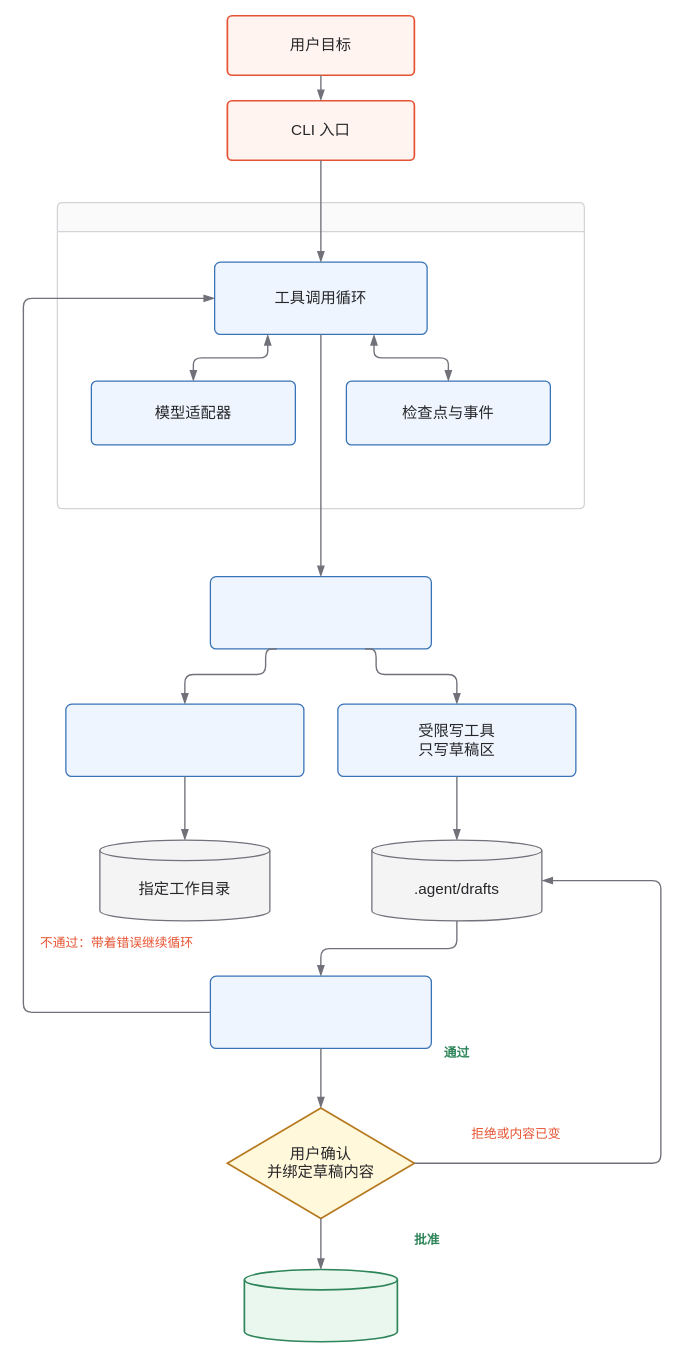
Image size: 686x1357. Some labels were removed from this diagram. The box of each missing label's shape, as (x1, y1, x2, y2) in pixels:
Agent 运行时: (56, 202, 585, 509)
reports/inventory.md: (243, 1268, 398, 1342)
只读工具 列目录、读文件、搜索: (65, 703, 304, 777)
工具注册表 Schema + 分发: (209, 576, 432, 649)
程序自动验收: (209, 975, 432, 1049)
